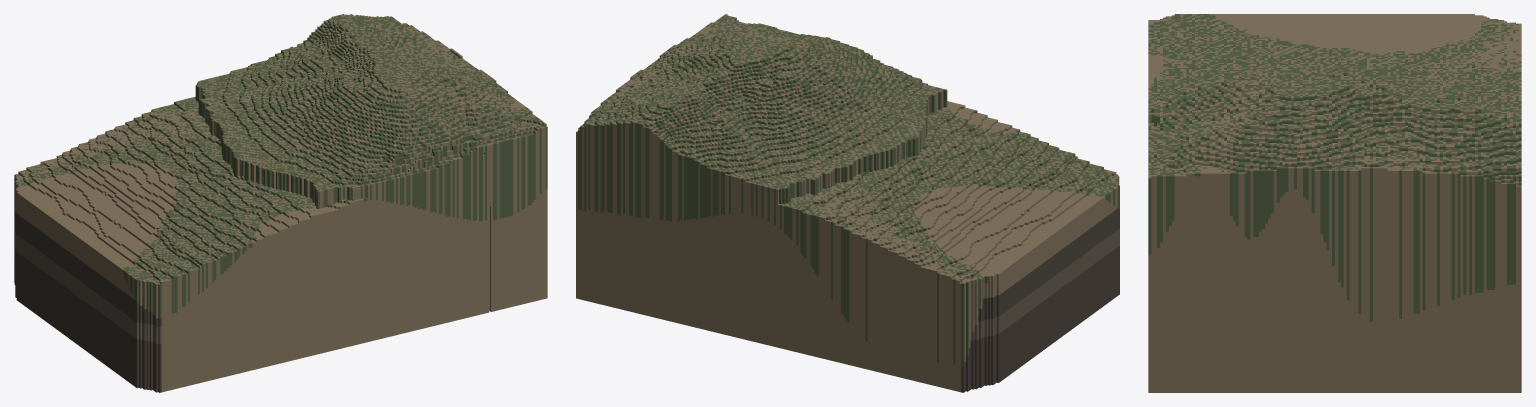
File: Combined Desert(3)-9-tile 9 - above water 1.obj
The picture shows the model from 3 angles, left to right: view 1: azimuth 30°, elevation 25°; view 2: azimuth 150°, elevation 25°; view 3: azimuth 270°, elevation 25°; orthographic projection. The views are drawn at different scales.
Parts seen in each view (by area): view 1: tile 9 - above water 1; view 2: tile 9 - above water 1; view 3: tile 9 - above water 1.
Part boxes in pixels (x1=…): tile 9 - above water 1: x1=14, y1=14, x2=547, y2=392; tile 9 - above water 1: x1=576, y1=14, x2=1119, y2=392; tile 9 - above water 1: x1=1148, y1=14, x2=1521, y2=392.
Size of the model in its own units: 19.8 by 9.6 by 12.8.
Materials: 1 (1 with a texture image).
